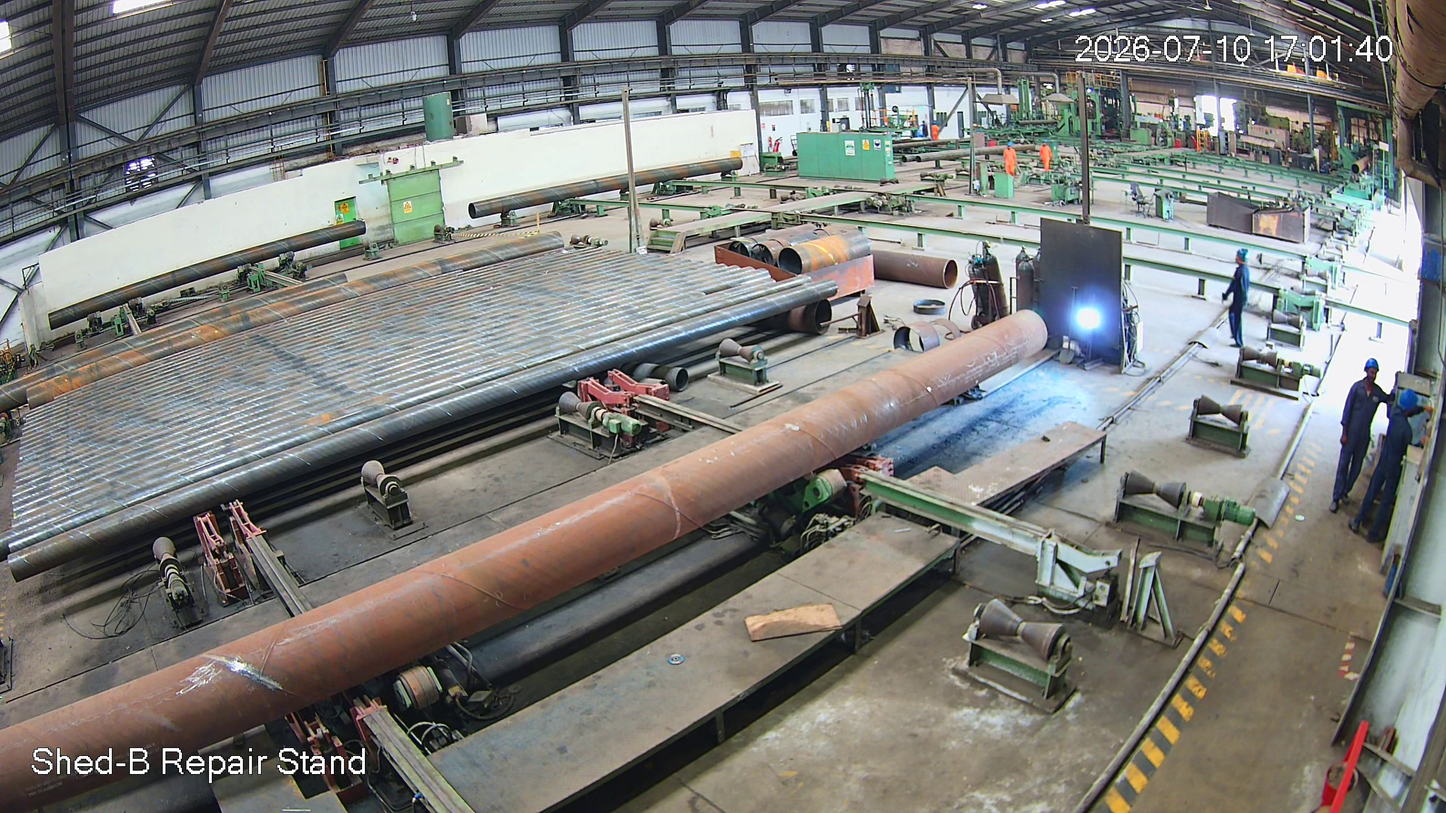Helmet: (1393, 382, 1424, 427), (1361, 355, 1386, 388), (1231, 245, 1251, 270)
Person: (1354, 386, 1432, 547), (1327, 358, 1388, 518), (1224, 248, 1256, 353)
